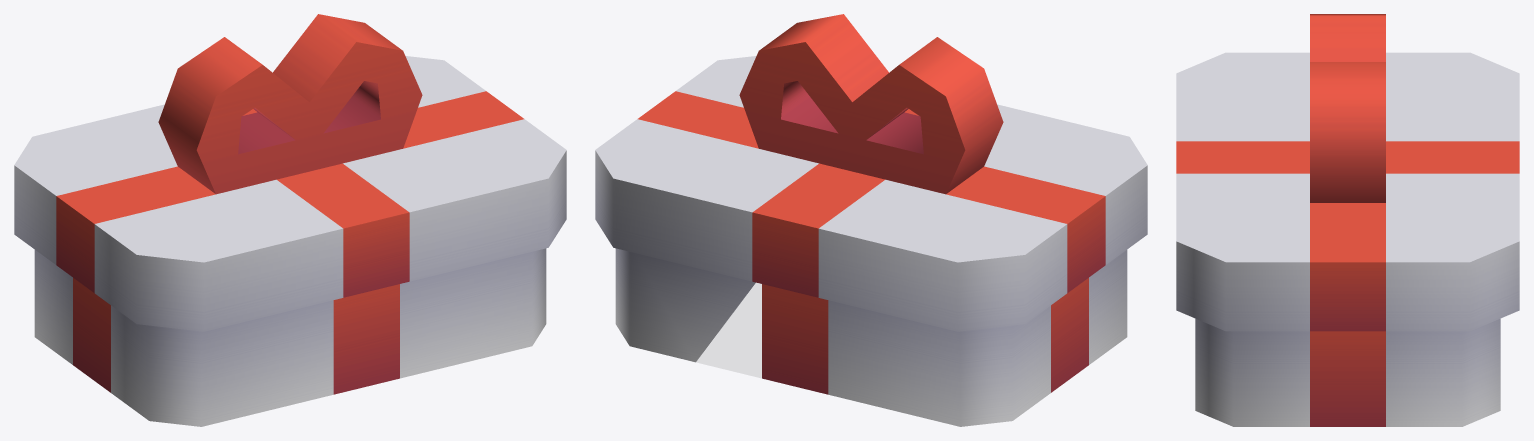
The model's file is cc0-present-rectangle-lod1.glb.
3 renders of one model, left to right at view 1: azimuth 30°, elevation 25°; view 2: azimuth 150°, elevation 25°; view 3: azimuth 270°, elevation 25°, orthographic.
Visible parts, largest first — view 1: part_0; view 2: part_0; view 3: part_0.
Boxes of the visible parts, box(x1,y1,x2,y2) form: part_0: box(14, 14, 566, 426); part_0: box(595, 14, 1147, 426); part_0: box(1176, 14, 1519, 426).
Bounding box in the file's own units: 0.65 × 0.4207 × 0.45.
1 material, 1 textured.
